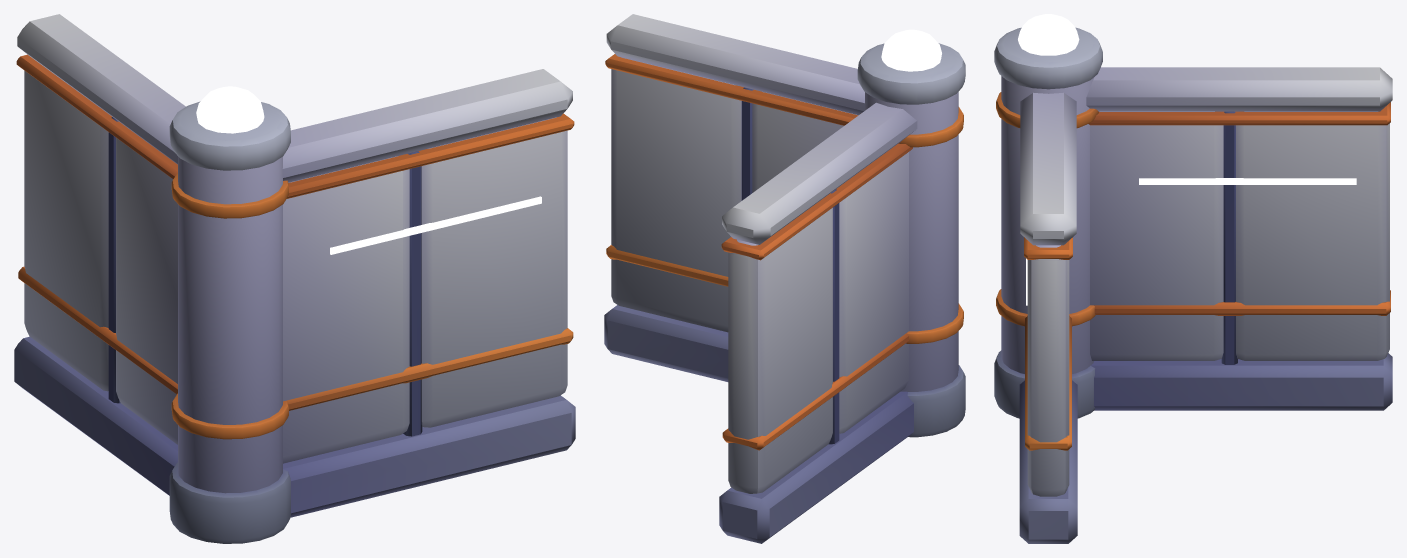
The model's file is hub_ruin_corner.glb.
3 views of the same model, side by side, from view 1: azimuth 30°, elevation 25°; view 2: azimuth 150°, elevation 25°; view 3: azimuth 270°, elevation 25° (orthographic). The views are drawn at different scales.
Parts seen in each view (by area): view 1: hub_ruin_corner; view 2: hub_ruin_corner; view 3: hub_ruin_corner.
Part boxes in pixels (<box>): hub_ruin_corner: <box>14,14,575,543</box>; hub_ruin_corner: <box>604,14,965,543</box>; hub_ruin_corner: <box>994,14,1392,543</box>.
Bounding box in the file's own units: 4.4 × 4.69 × 4.4.
